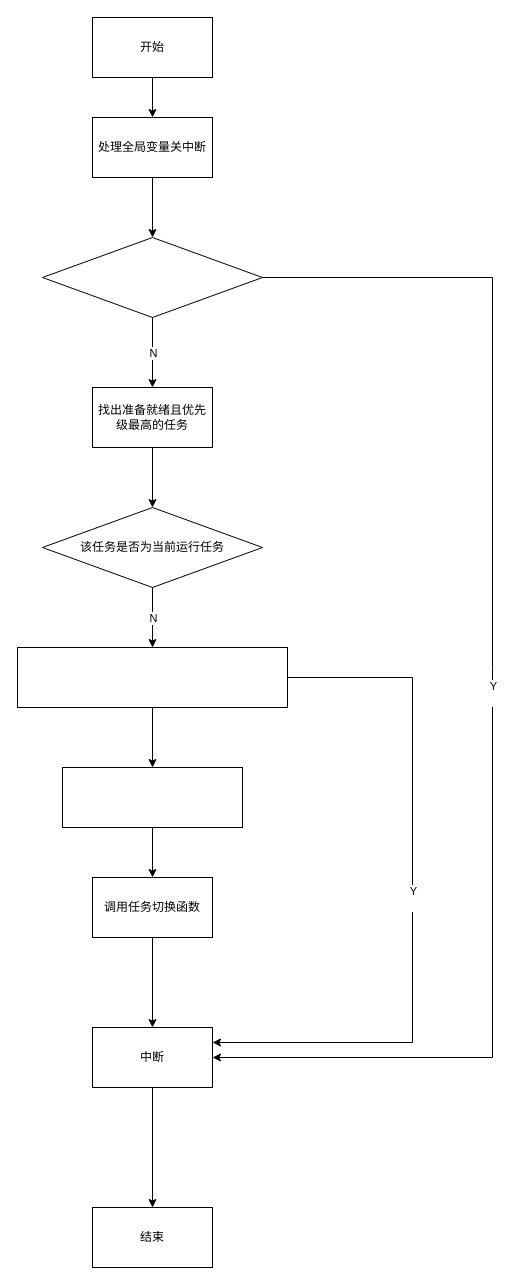
The diagram is 518 pixels wide and 1285 high, and some of its shapes have lost their labels. The shapes that lost their labels are listed below. From the top down, each one's box as (x1, y1, x2, y2) in pixels, then its label:
(42, 236, 262, 318): 是否中断嵌套或调度上限
(16, 646, 288, 708): 将OSTCBHighReady指针指向该任务的控制模块
(62, 766, 242, 828): 任务切换停机数据计数器+1
